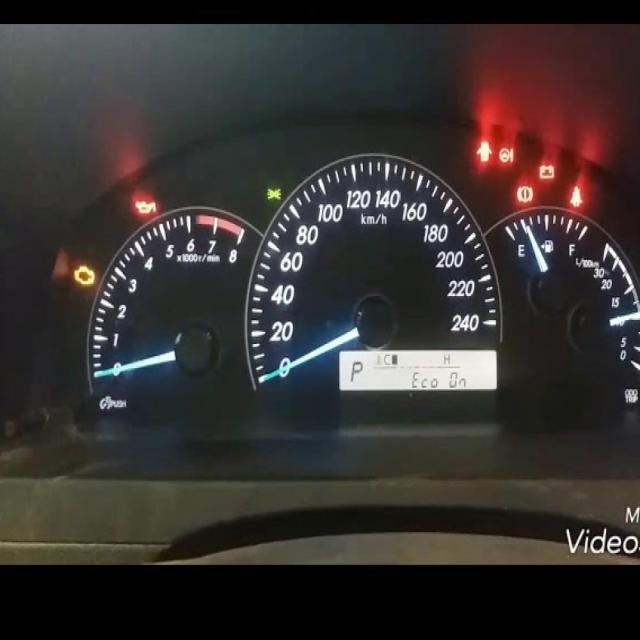Electronic Power Steering: (499, 148, 513, 164)
Seat Belt: (570, 185, 583, 208)
